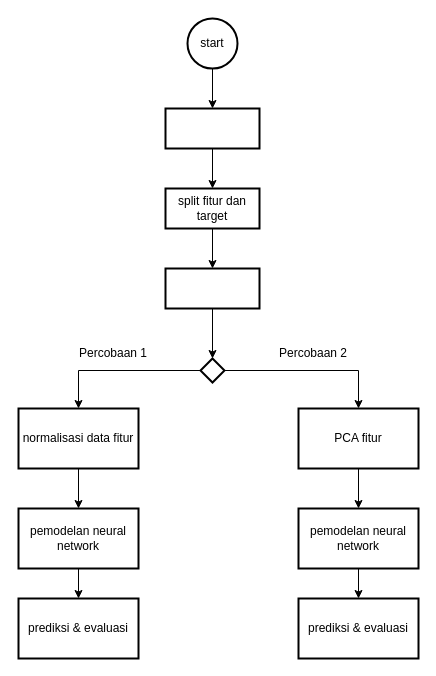
The diagram is 436 pixels wide and 676 high, and some of its shapes have lost their labels. Here are the shapes that lost their labels. From the top down, the centre of each, then its label:
At pixel 212 128: "Eksplorasi".
At pixel 212 288: "encode target".
